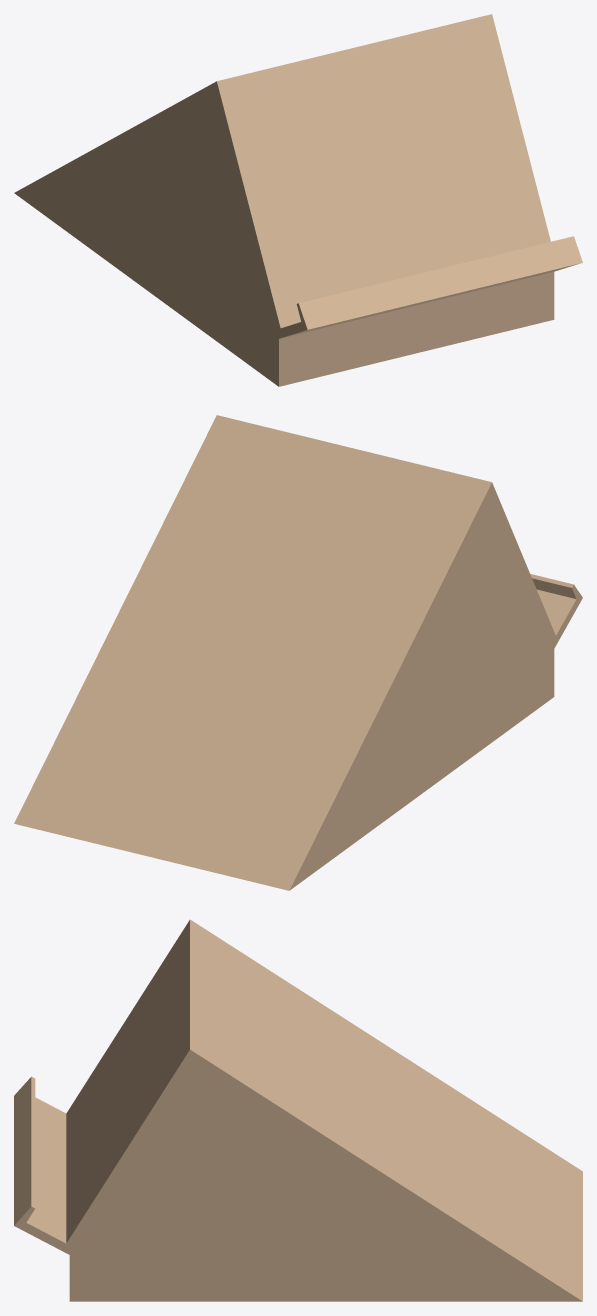
The picture shows the model from 3 angles, top to bottom: view 1: azimuth 30°, elevation 25°; view 2: azimuth 150°, elevation 25°; view 3: azimuth 270°, elevation 25°; orthographic projection. The views are drawn at different scales.
Bounding box in the file's own units: 0.06 × 0.0542 × 0.1109.
